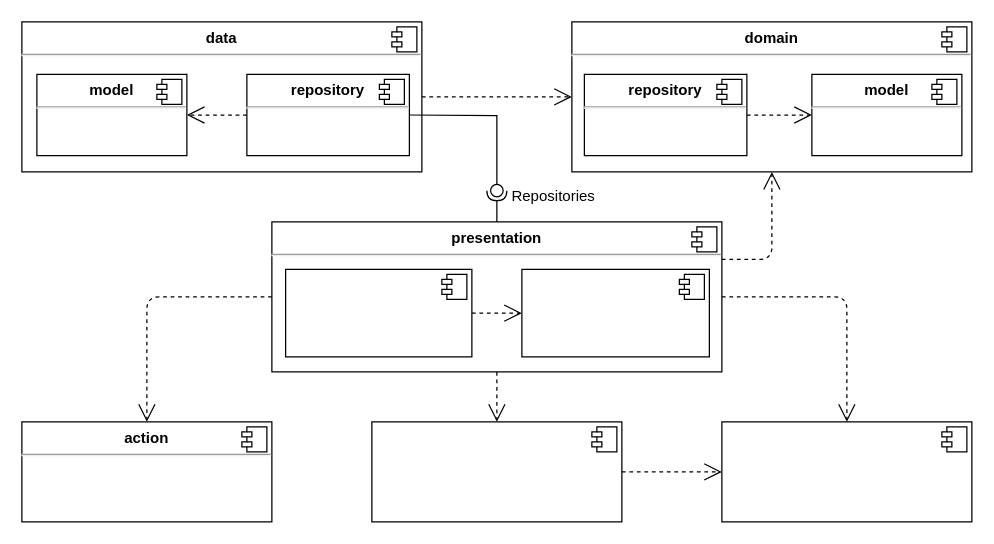
Image size: 994x544. Some labels were removed from this diagram. Here are the shapes that lost their labels. From the top down, the centre of each, then its label:
At point 378,312: "view".
At point 615,312: "viewmodel".
At point 496,471: "tooling".
At point 846,471: "extensions".
